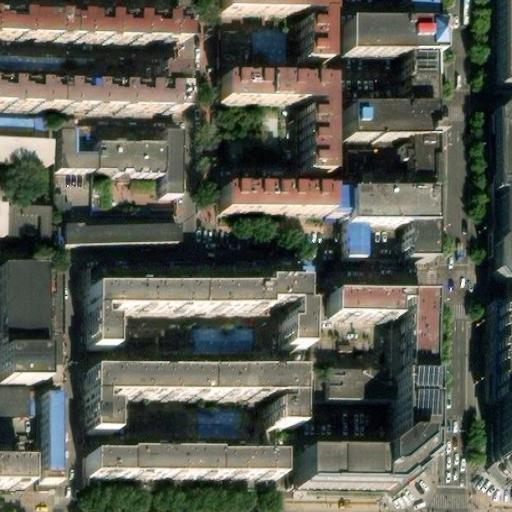building: (87, 283, 300, 354), (298, 380, 426, 495), (76, 367, 288, 426), (218, 74, 326, 174), (0, 63, 181, 114), (329, 296, 427, 380), (225, 0, 334, 65), (87, 263, 299, 292), (86, 446, 280, 475), (483, 117, 512, 294), (0, 261, 39, 375), (218, 191, 326, 222), (348, 31, 444, 65), (60, 210, 170, 239), (341, 118, 428, 154), (336, 209, 417, 242), (486, 0, 512, 93), (0, 202, 52, 240), (96, 144, 162, 172), (41, 403, 61, 491), (398, 69, 429, 120), (61, 130, 96, 172), (324, 375, 371, 405), (499, 327, 512, 428), (0, 138, 47, 165), (162, 133, 180, 197), (396, 156, 417, 209), (0, 384, 32, 418), (0, 455, 31, 486), (399, 0, 429, 31), (392, 241, 421, 270), (331, 242, 352, 271), (506, 428, 512, 464)
